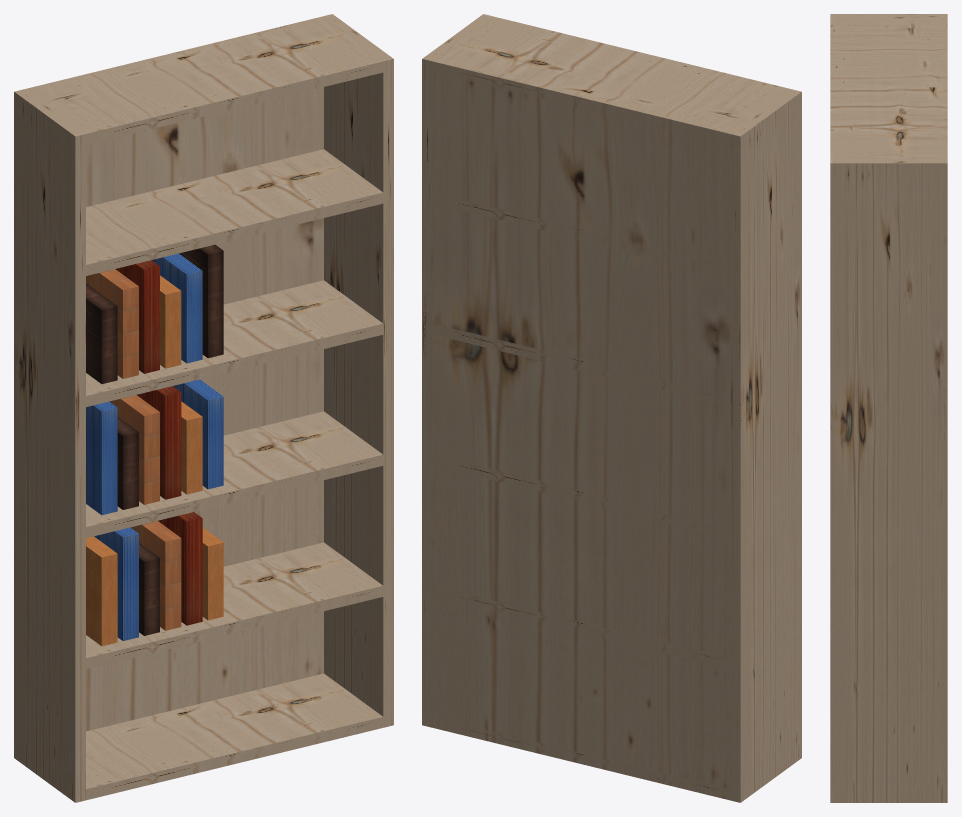
The model's file is Bookshelf.fbx.
3 renders of one model, left to right at view 1: azimuth 30°, elevation 25°; view 2: azimuth 150°, elevation 25°; view 3: azimuth 270°, elevation 25°, orthographic. The views are drawn at different scales.
Visible parts, largest first — view 1: Bookshelf; view 2: Bookshelf; view 3: Bookshelf.
Boxes of the visible parts, x1,y1,x2,y2 form: Bookshelf: (14, 14, 393, 802); Bookshelf: (422, 14, 801, 802); Bookshelf: (830, 14, 947, 802).
Bounding box in the file's own units: 0.9 × 1.8 × 0.3.
